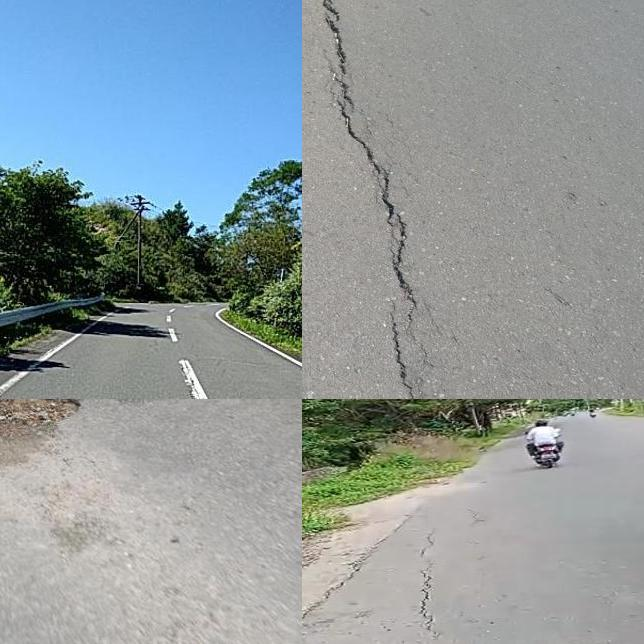Lubang: (0, 399, 76, 444)
Memanjang: (302, 0, 445, 399), (407, 525, 444, 644)
